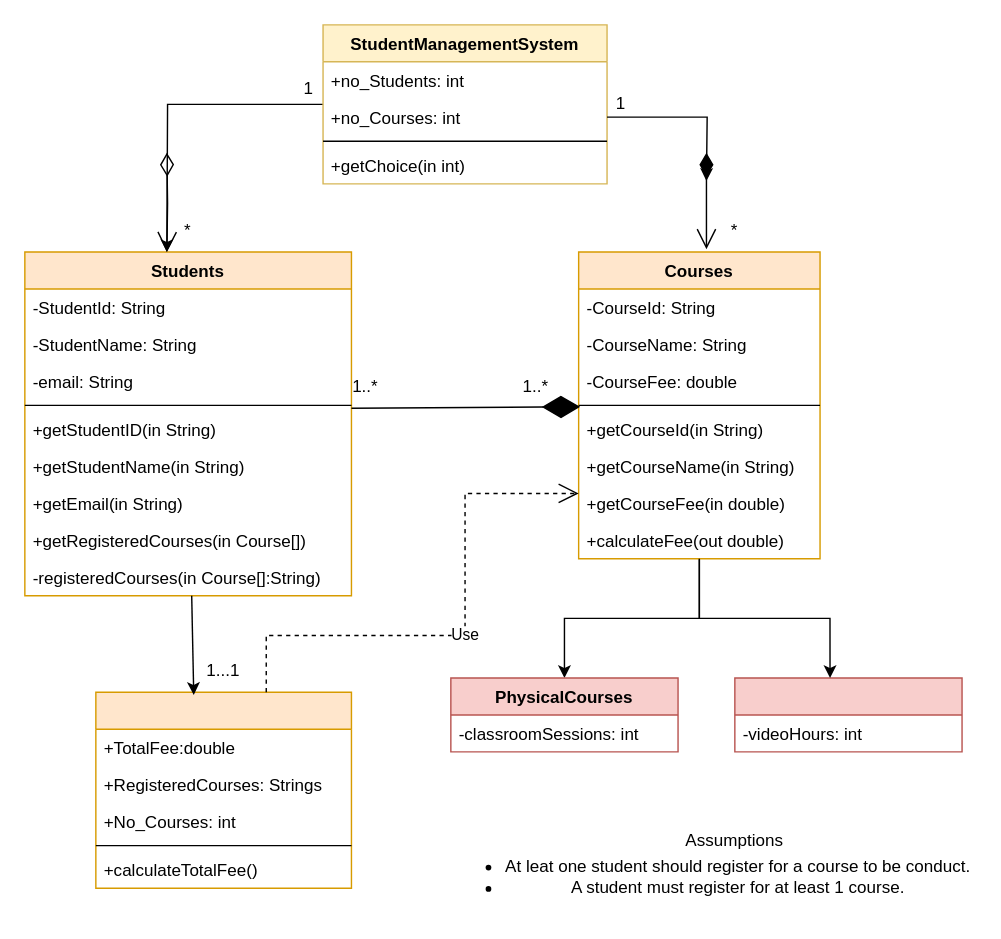
The diagram is 1001 pixels wide and 939 high, and some of its shapes have lost their labels. The shapes that lost their labels are listed below. From the top down, each one's box as (x1, y1, x2, y2) in pixels, then its label:
(733, 677, 962, 752): OnlineCourses
(94, 691, 351, 888): TutionFee
